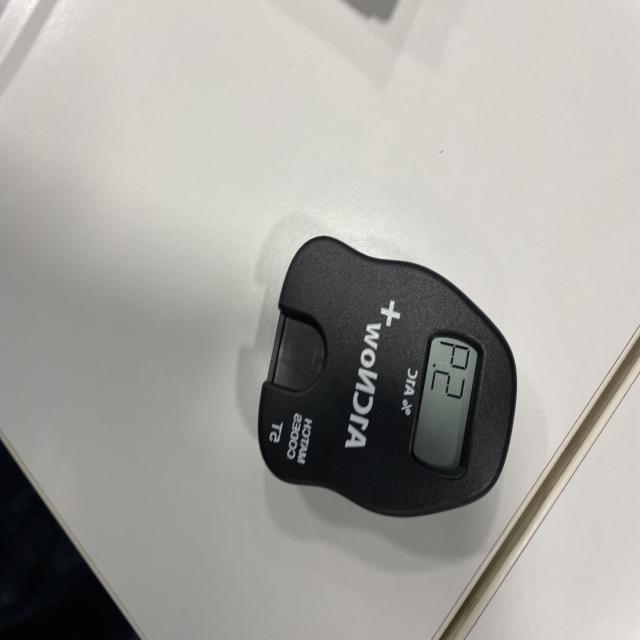hba1c: (256, 237, 519, 521)
